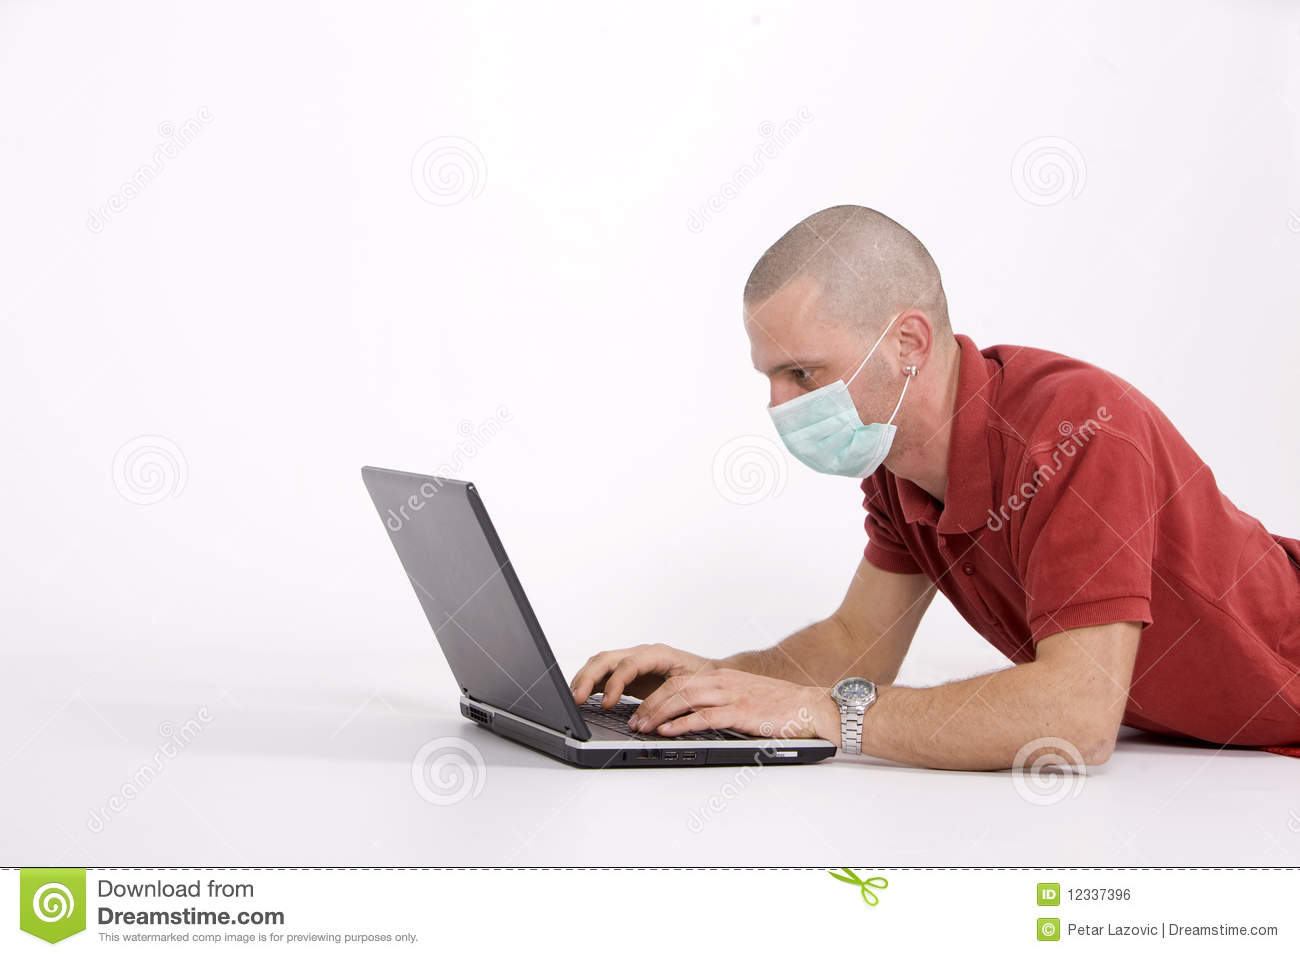mask: (771, 391, 898, 478)
